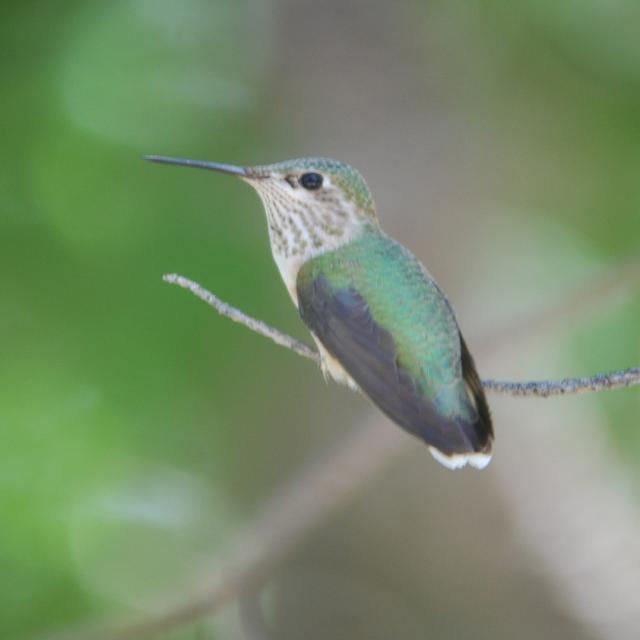bird: (137, 143, 552, 478)
